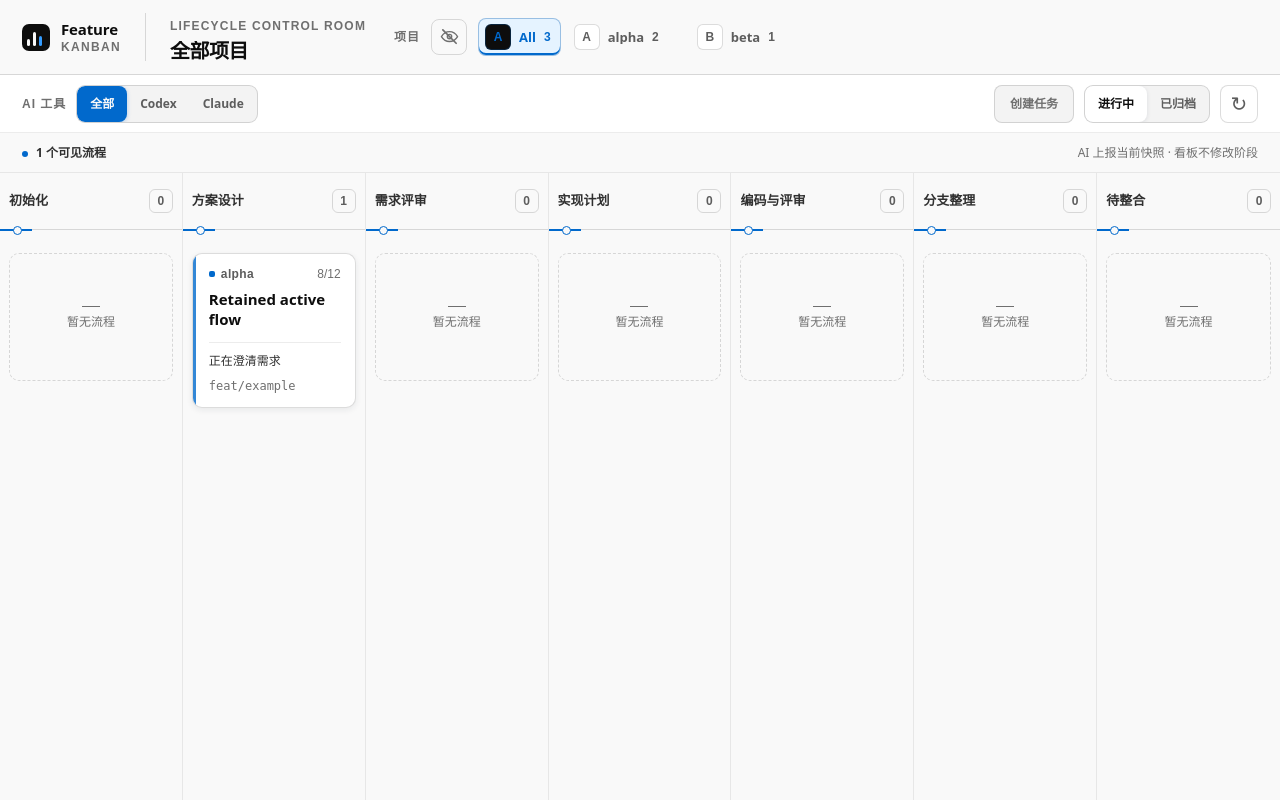
Test: BoardPageComponent › does not project retained active cards into an archived load
The image size is (1280, 800).
Click the button "已归档" at [1178, 104], box left=1147, top=86, right=1209, bottom=122
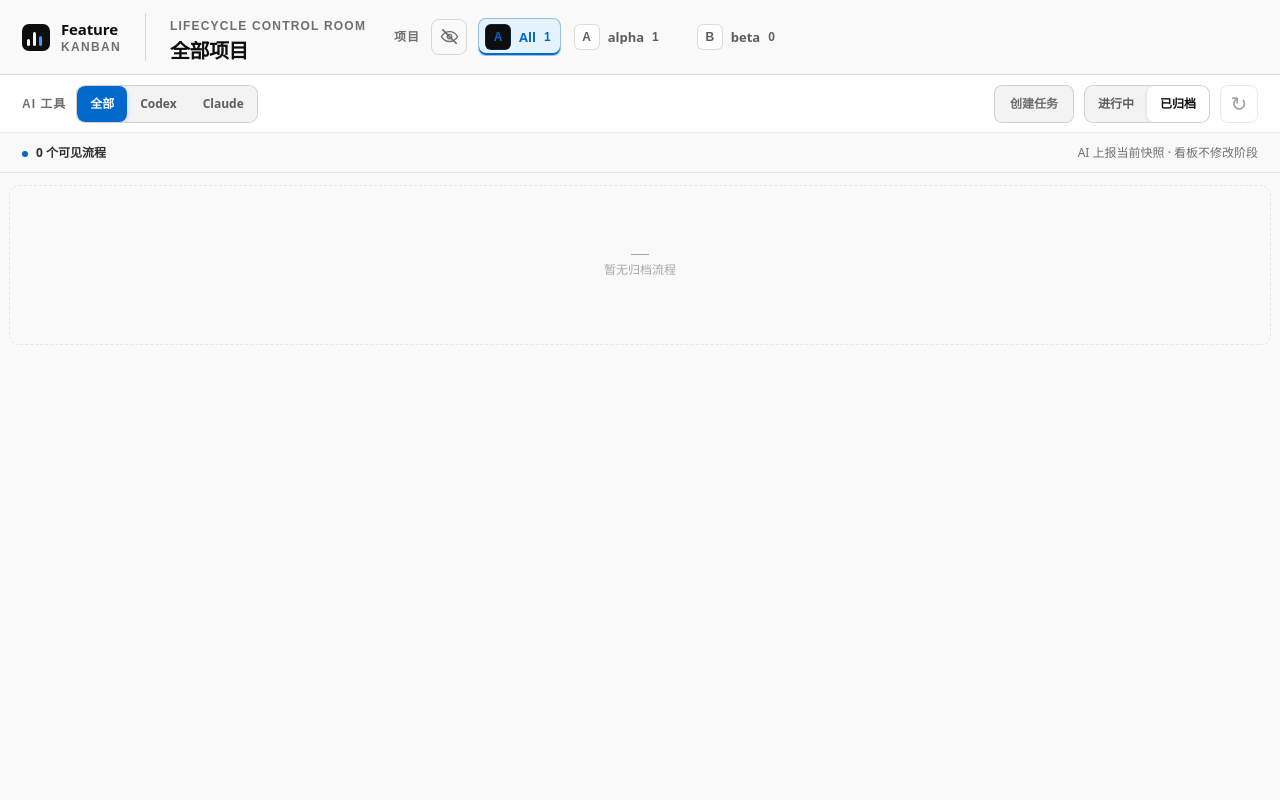
Result: the text "Retained active flow" is gone
Result: the element showing "0 个可见流程" is shown at left=22, top=146, right=106, bottom=158
